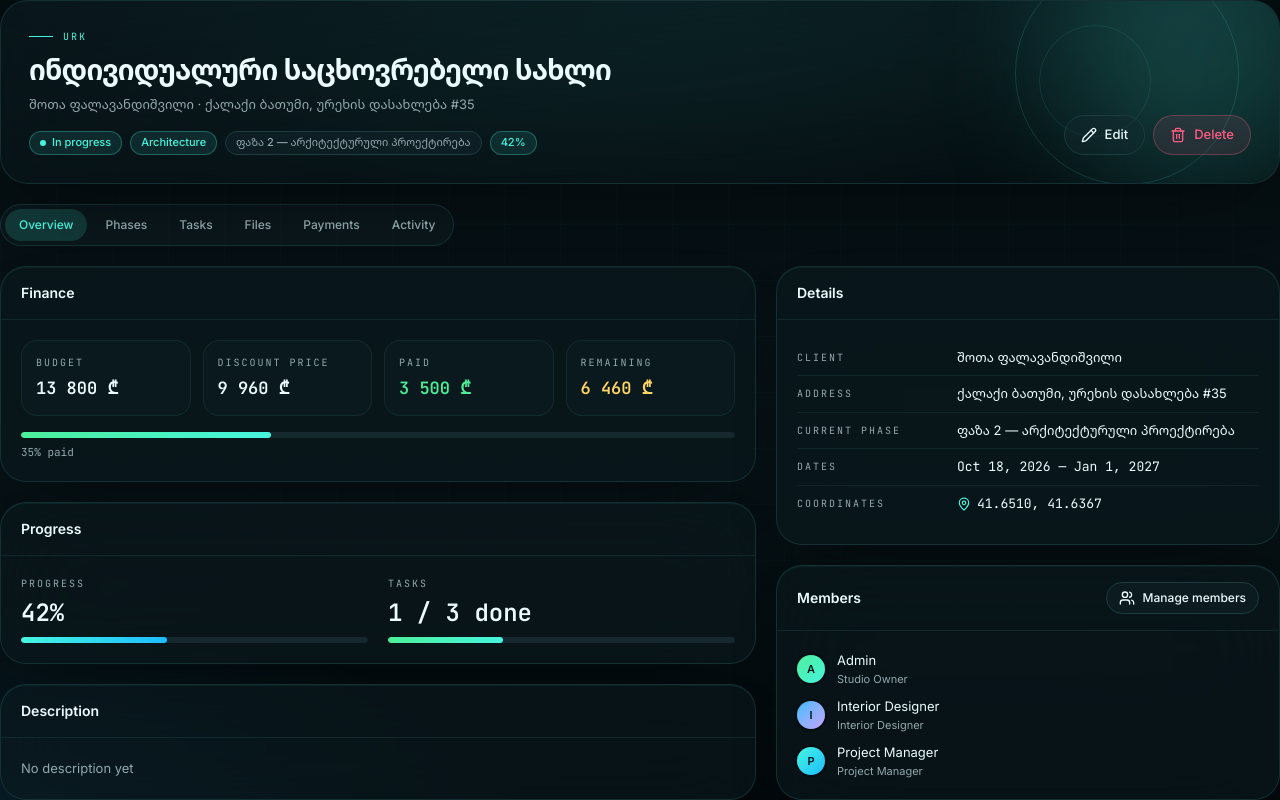
Scenario: ProjectDetailPage › lists payments in the Payments tab
Click the tab "Payments" at (331, 225), box x1=289 y1=209 x2=374 y2=241
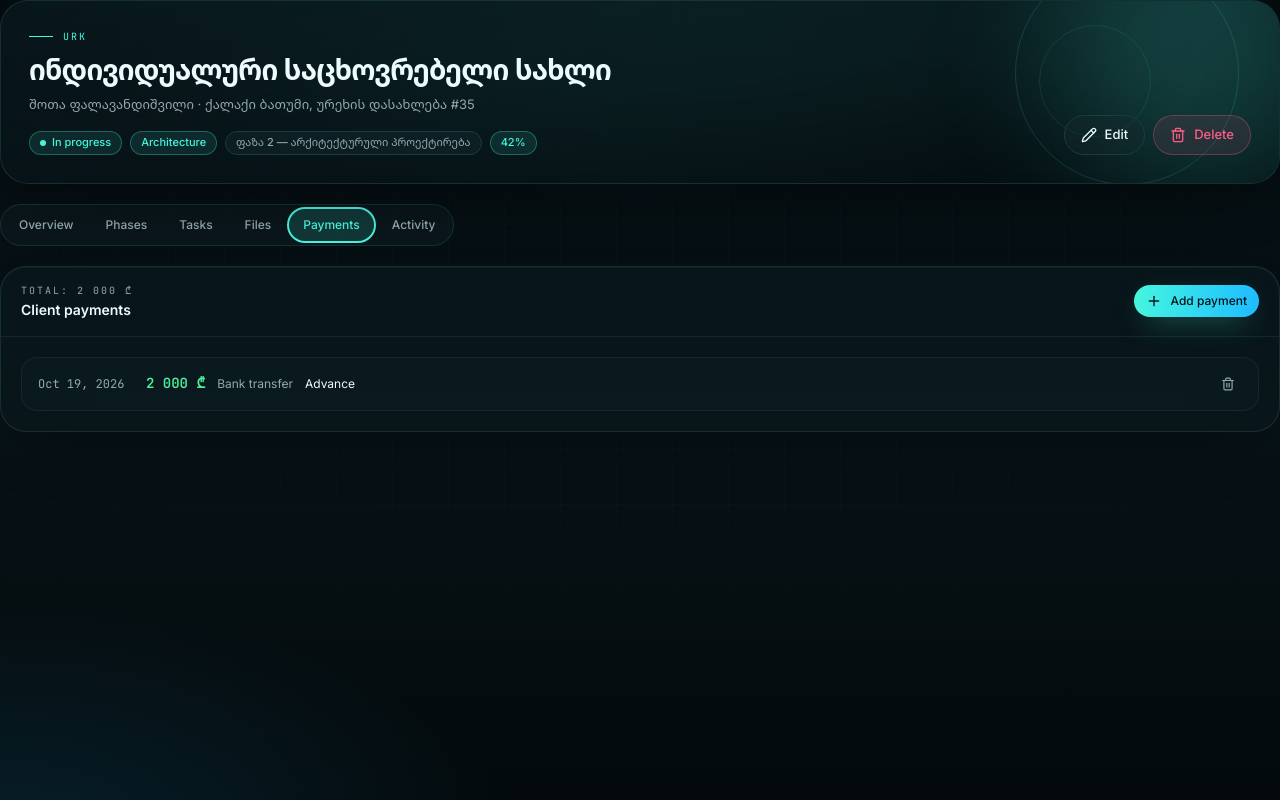
Now the text "Advance" is shown, box x1=305 y1=376 x2=355 y2=391
Now the text "Bank transfer" is shown, box x1=217 y1=375 x2=293 y2=393
